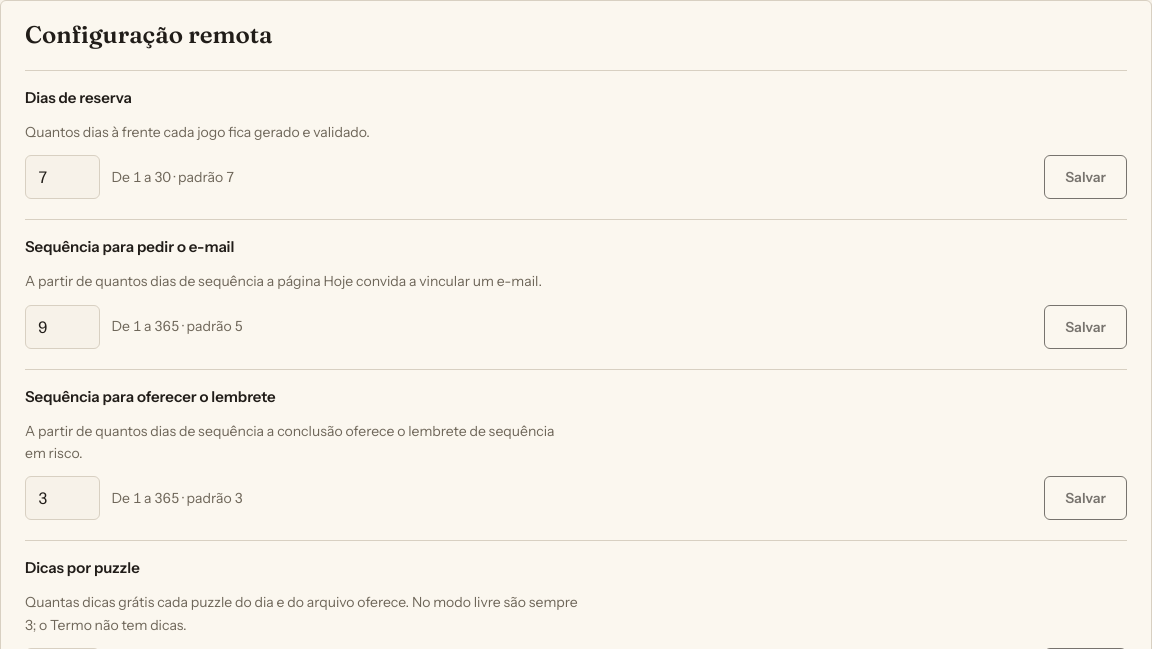
Test: saving a row posts that key and redraws every row from the answer (T-WEB-S534) › posts {key, value}, says saved, and every row shows the server's answer
The image size is (1152, 649).
Replace the text in the number field labelled "Dias de reserva" with "10" at (62, 177), box [25, 155, 100, 199]
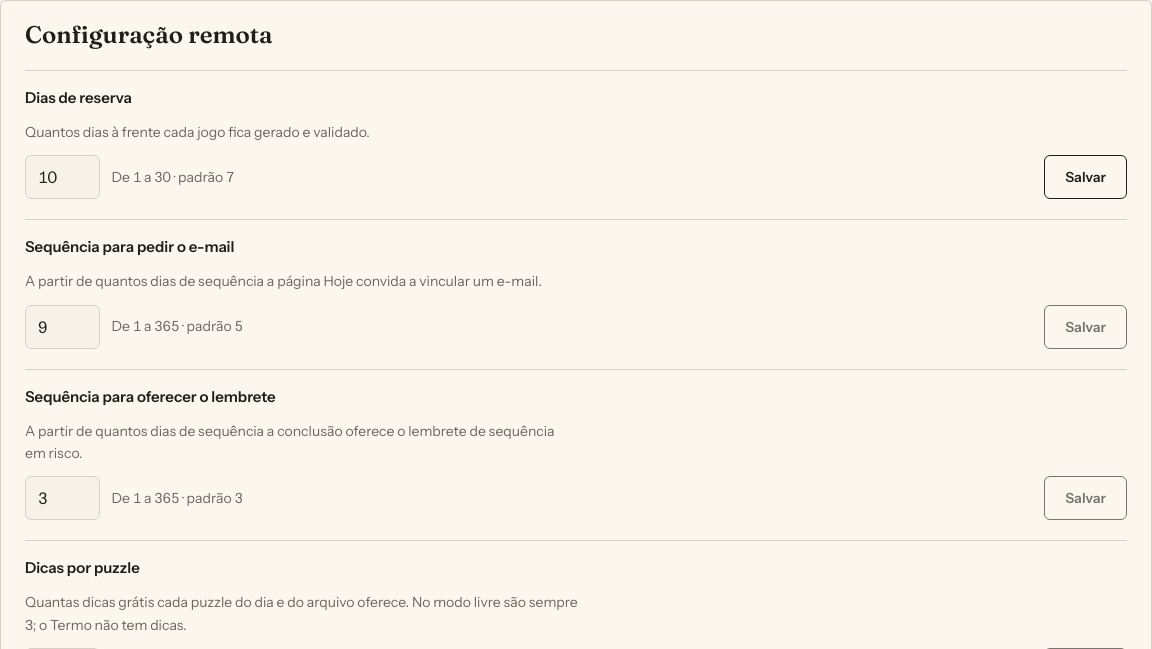
Click the button "Salvar" in the row of "De 1 a 30 · padrão 7".
click(1086, 177)  # box [1044, 155, 1127, 199]
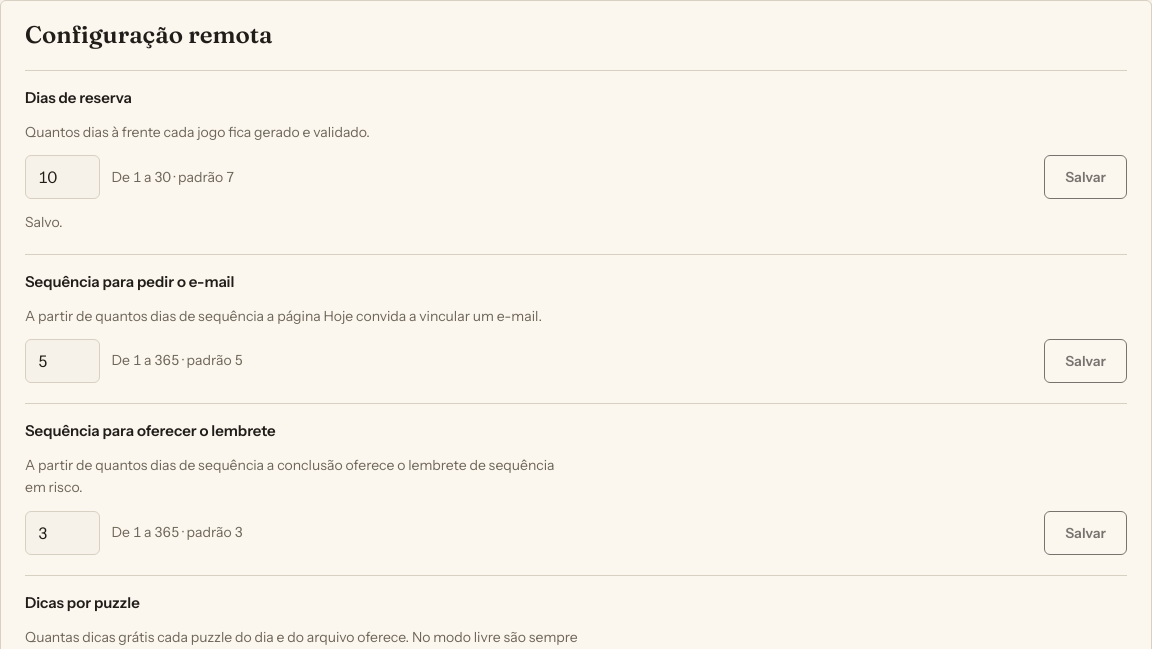
Now the text "Salvo." is shown, box [25, 213, 62, 231]
Now the number field labelled "Sequência para pedir o e-mail" holds "5", box [25, 339, 100, 383]
